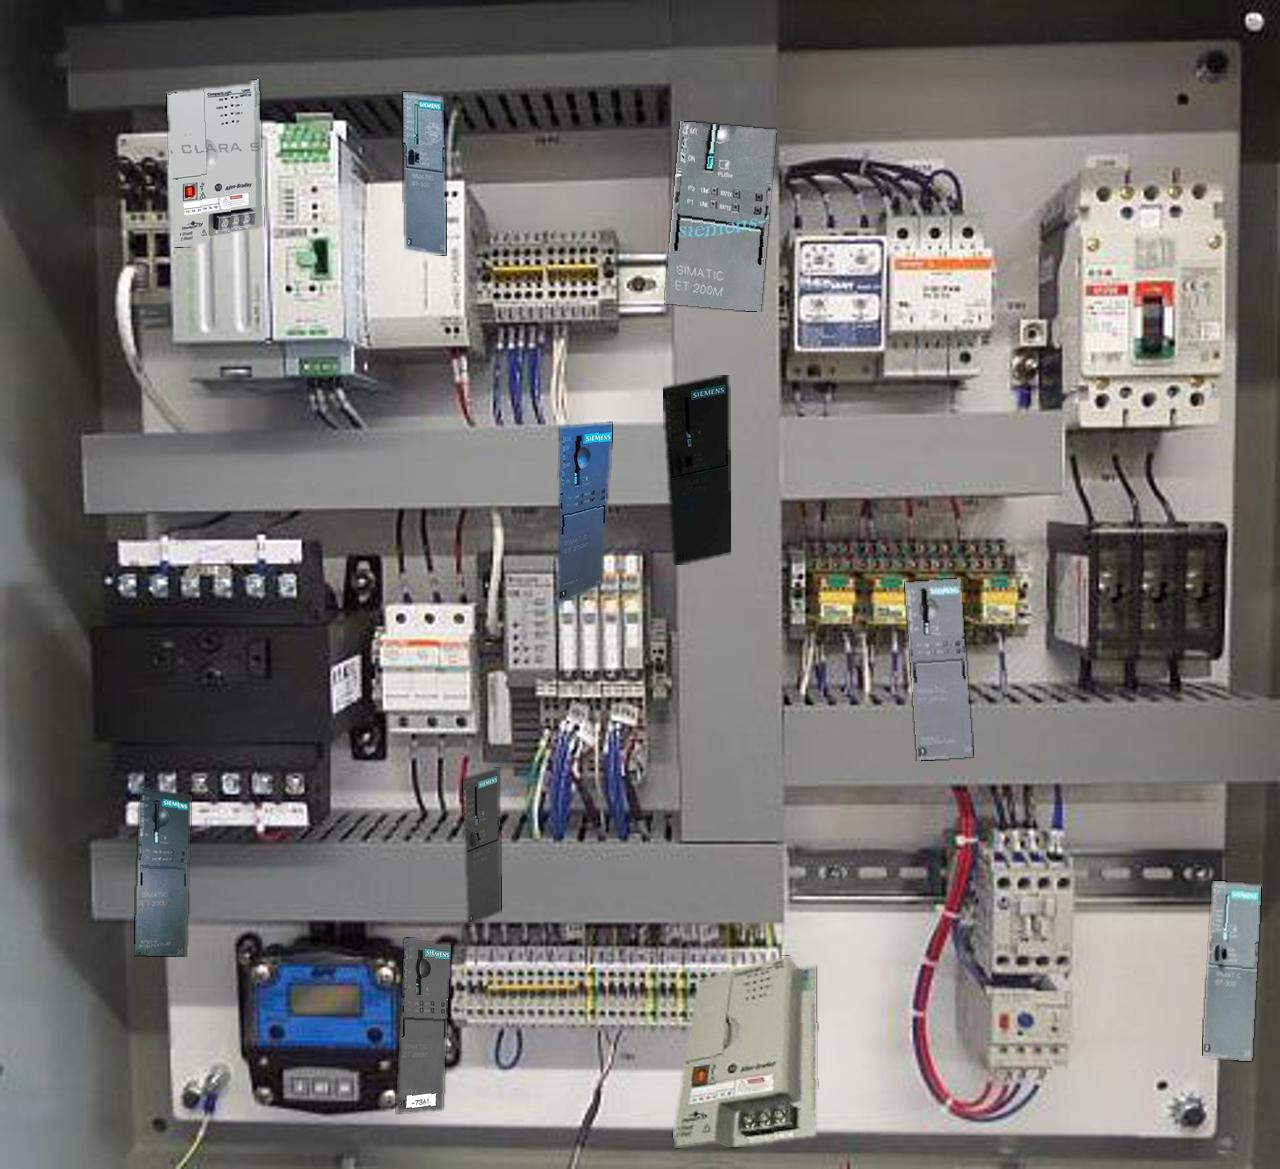AllenBradley: (673, 956, 816, 1147), (167, 79, 262, 247)
Siemens: (663, 375, 730, 564), (1202, 881, 1261, 1060), (403, 91, 445, 254), (463, 769, 500, 925)
